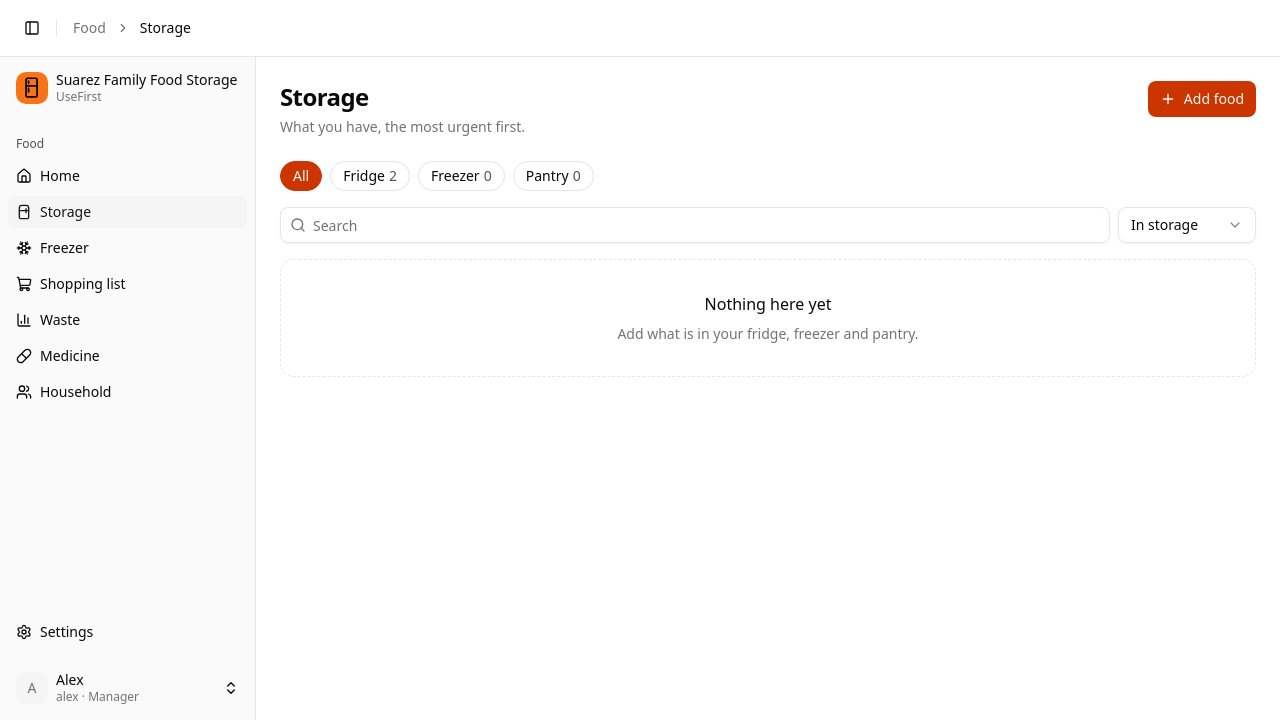
adding food › asks for the date when the category has no default for that place
Step 1. Click the button "Add food" → (1202, 99), box x1=1148 y1=81 x2=1256 y2=117
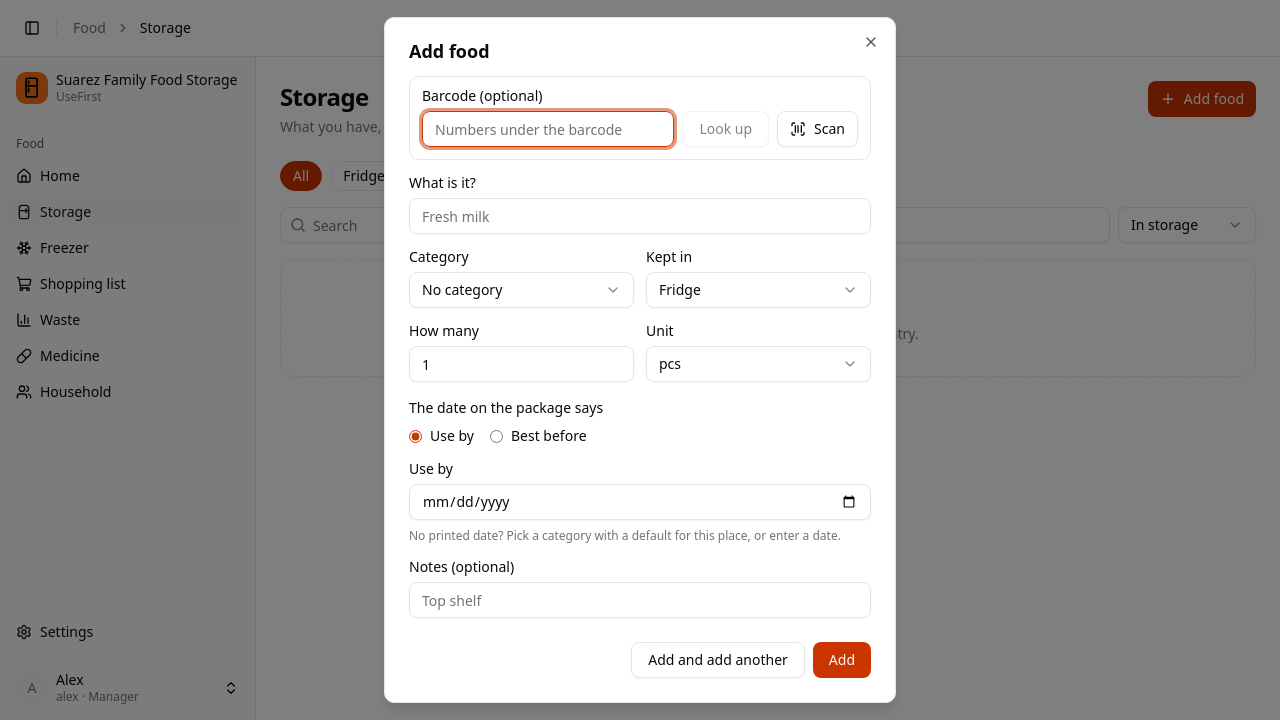
Step 2. Type "Chips" into the field labelled "What is it?" → (640, 216), box x1=409 y1=198 x2=871 y2=234
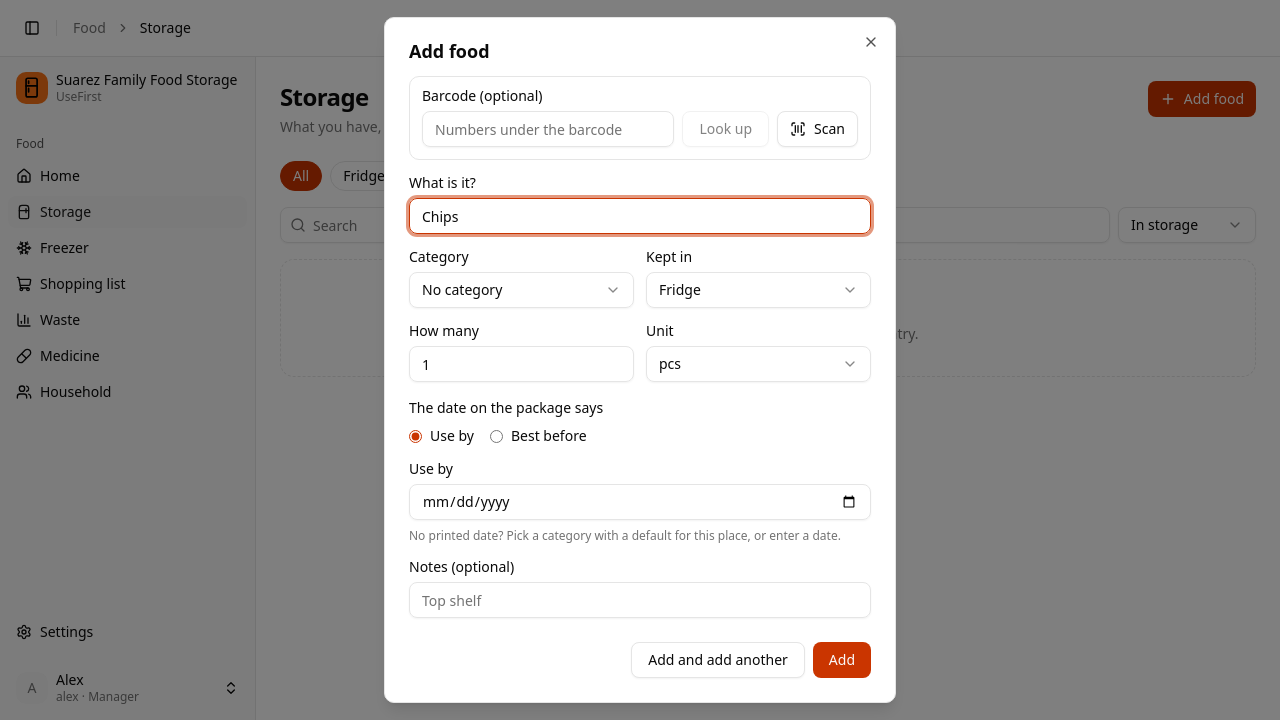
Step 3. Select "Snacks" in the dropdown labelled "Category" → (522, 290), box x1=409 y1=272 x2=634 y2=308
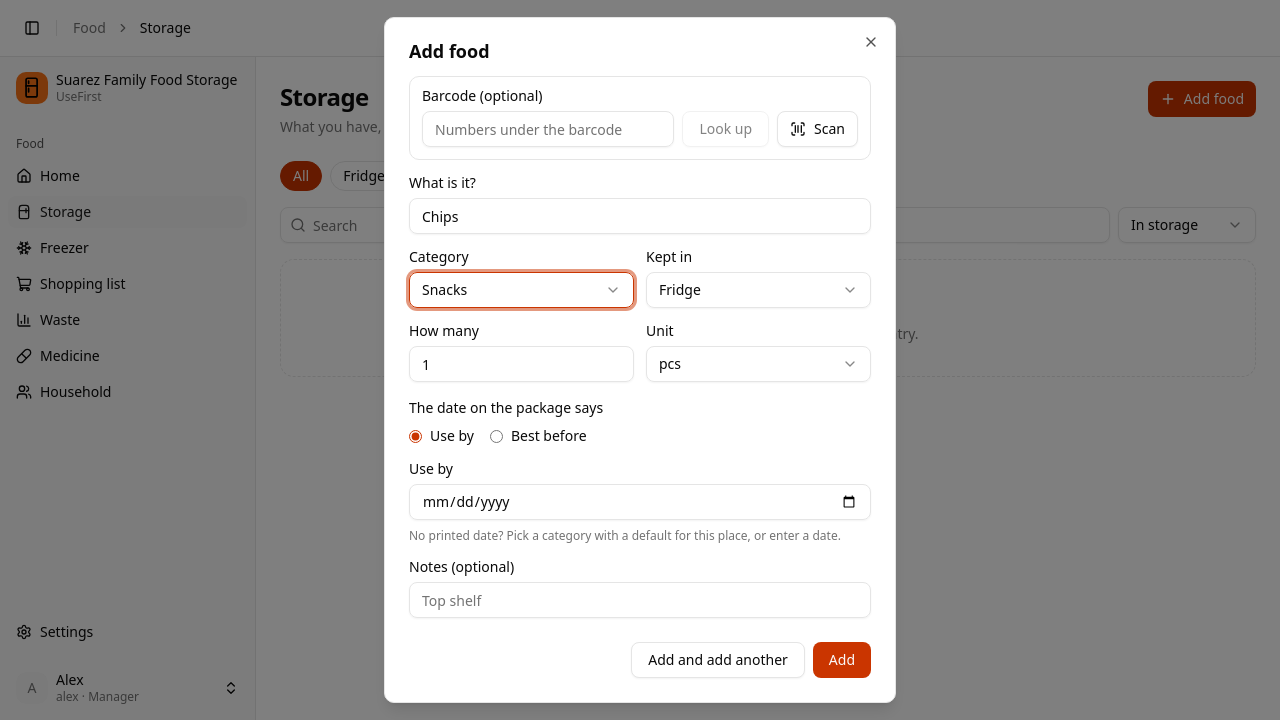
Step 4. Click the button "Add" → (842, 660), box x1=813 y1=642 x2=871 y2=678
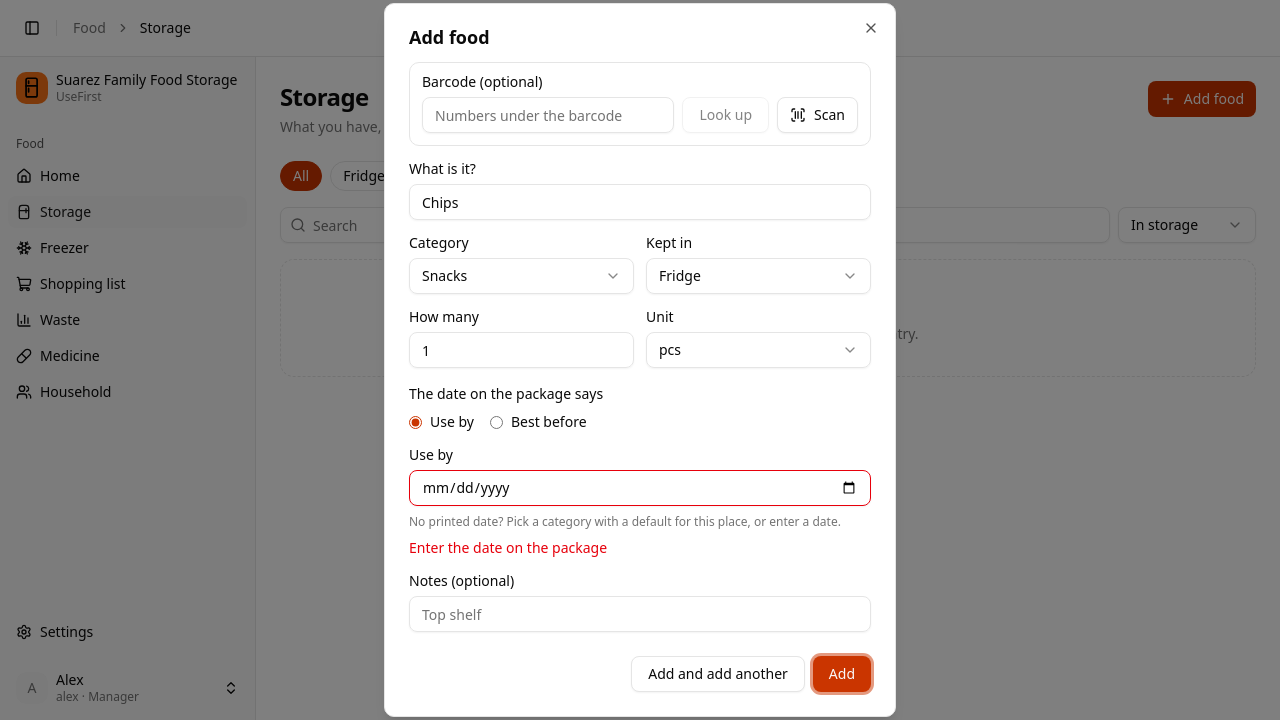
Now the text "Enter the date on the package" is shown, box x1=409 y1=538 x2=607 y2=557
